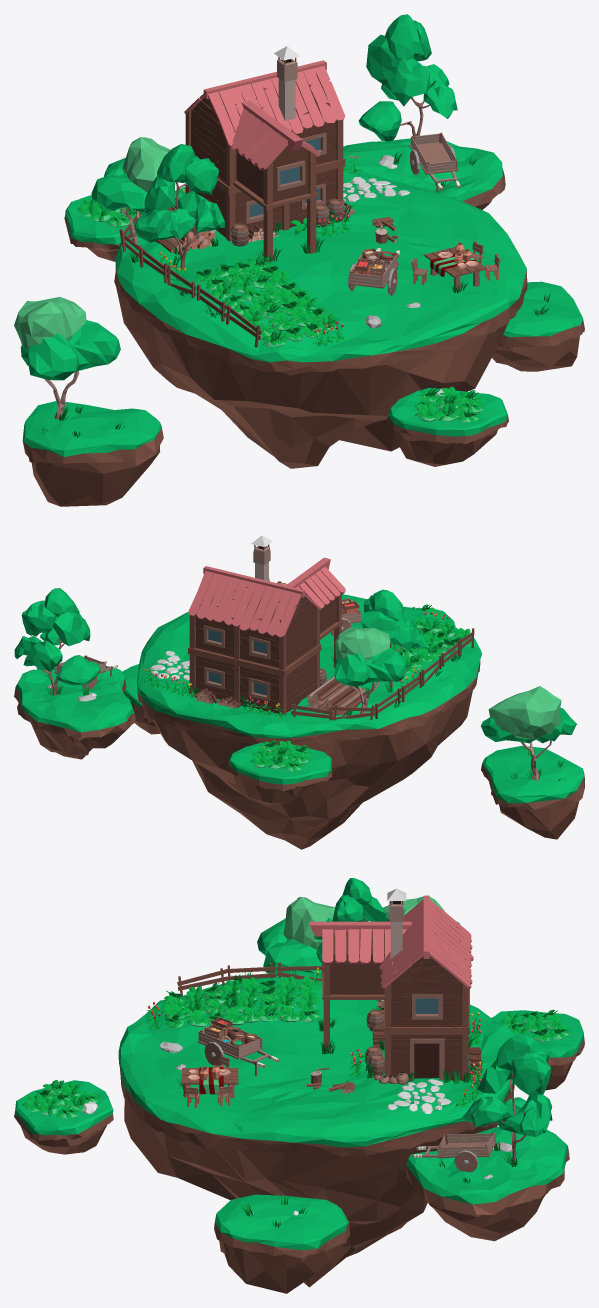
Rendered from land_70.fbx.
3 renders of one model, top to bottom at view 1: azimuth 30°, elevation 25°; view 2: azimuth 150°, elevation 25°; view 3: azimuth 270°, elevation 25°, orthographic. The views are drawn at different scales.
Visible parts, largest first — view 1: polySurface2792.001, land_70.205, polySurface2763, land_70.209, land_70.208, land_70.186, polySurface2761, polySurface2759, polySurface2762, land_70.113, polySurface2762.001, land_70.007 (+3 smaller); view 2: polySurface2792.001, land_70.205, polySurface2759, polySurface2763, land_70.209, land_70.208, polySurface2762.001, land_70.113, land_70.186, land_70.191, polySurface2761, land_70.120 (+1 smaller); view 3: polySurface2792.001, land_70.205, polySurface2759, polySurface2761, land_70.209, polySurface2762, land_70.208, land_70.120, polySurface2762.001, land_70.007, land_70.186, land_70.119 (+2 smaller).
Part boxes in pixels (x1,y1,x2,y2): polySurface2792.001: (114,166,527,468); land_70.205: (184,46,345,261); polySurface2763: (22,401,163,506); land_70.209: (358,14,457,141); land_70.208: (14,297,120,419); land_70.186: (134,144,224,269); polySurface2761: (492,281,584,371); polySurface2759: (343,138,505,209); polySurface2762: (387,388,508,466); land_70.113: (91,137,170,244); polySurface2762.001: (64,195,132,261); land_70.007: (409,132,460,192); polySurface2792.001: (137,594,481,849); land_70.205: (188,535,345,714); polySurface2759: (14,666,135,759); polySurface2763: (481,745,584,839); land_70.209: (14,588,100,695); land_70.208: (481,686,577,780); polySurface2762.001: (228,743,332,804); land_70.113: (334,627,407,717); land_70.186: (362,589,429,687); land_70.191: (307,676,369,716); polySurface2761: (122,664,160,734); land_70.120: (330,597,361,636); polySurface2792.001: (118,970,515,1287); land_70.205: (309,888,473,1080); polySurface2759: (405,1127,569,1241); polySurface2761: (214,1194,349,1293); land_70.209: (462,1033,552,1162); polySurface2762: (14,1080,113,1154); land_70.208: (257,897,335,973); land_70.120: (198,1016,279,1076); polySurface2762.001: (491,1010,584,1090); land_70.007: (412,1132,496,1172); land_70.186: (314,878,386,963); land_70.119: (182,1065,238,1098).
Bounding box in the file's own units: 27.12 × 17.64 × 24.26.
